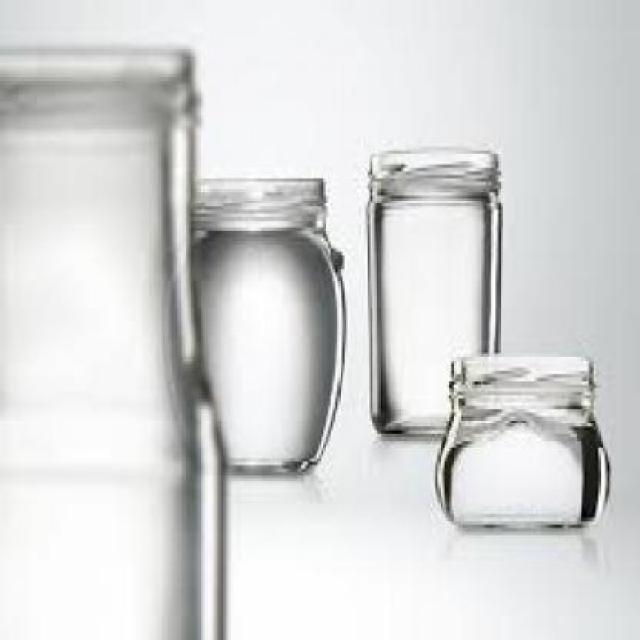kaca: (0, 46, 223, 637), (188, 175, 340, 472), (366, 146, 499, 434), (432, 354, 608, 532)
